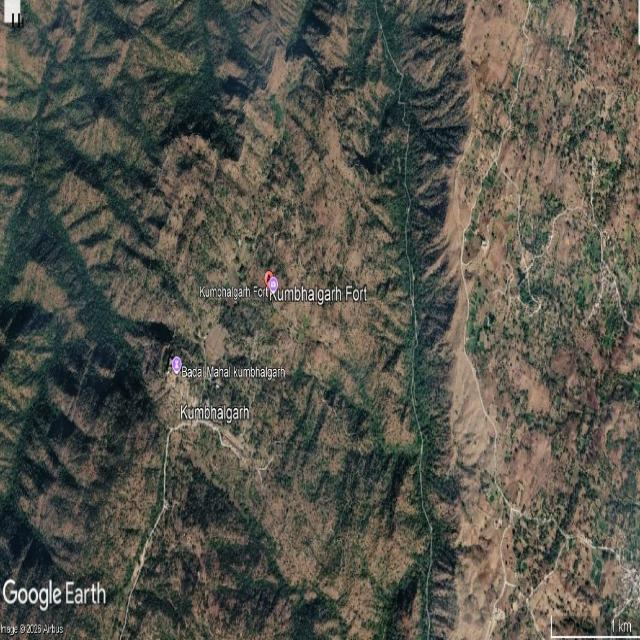objects-ruins-artifacts: (441, 52, 628, 480), (28, 256, 242, 530)
